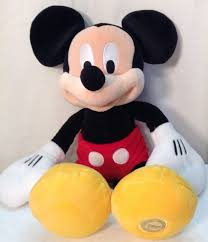Mickey: (28, 1, 179, 113)
